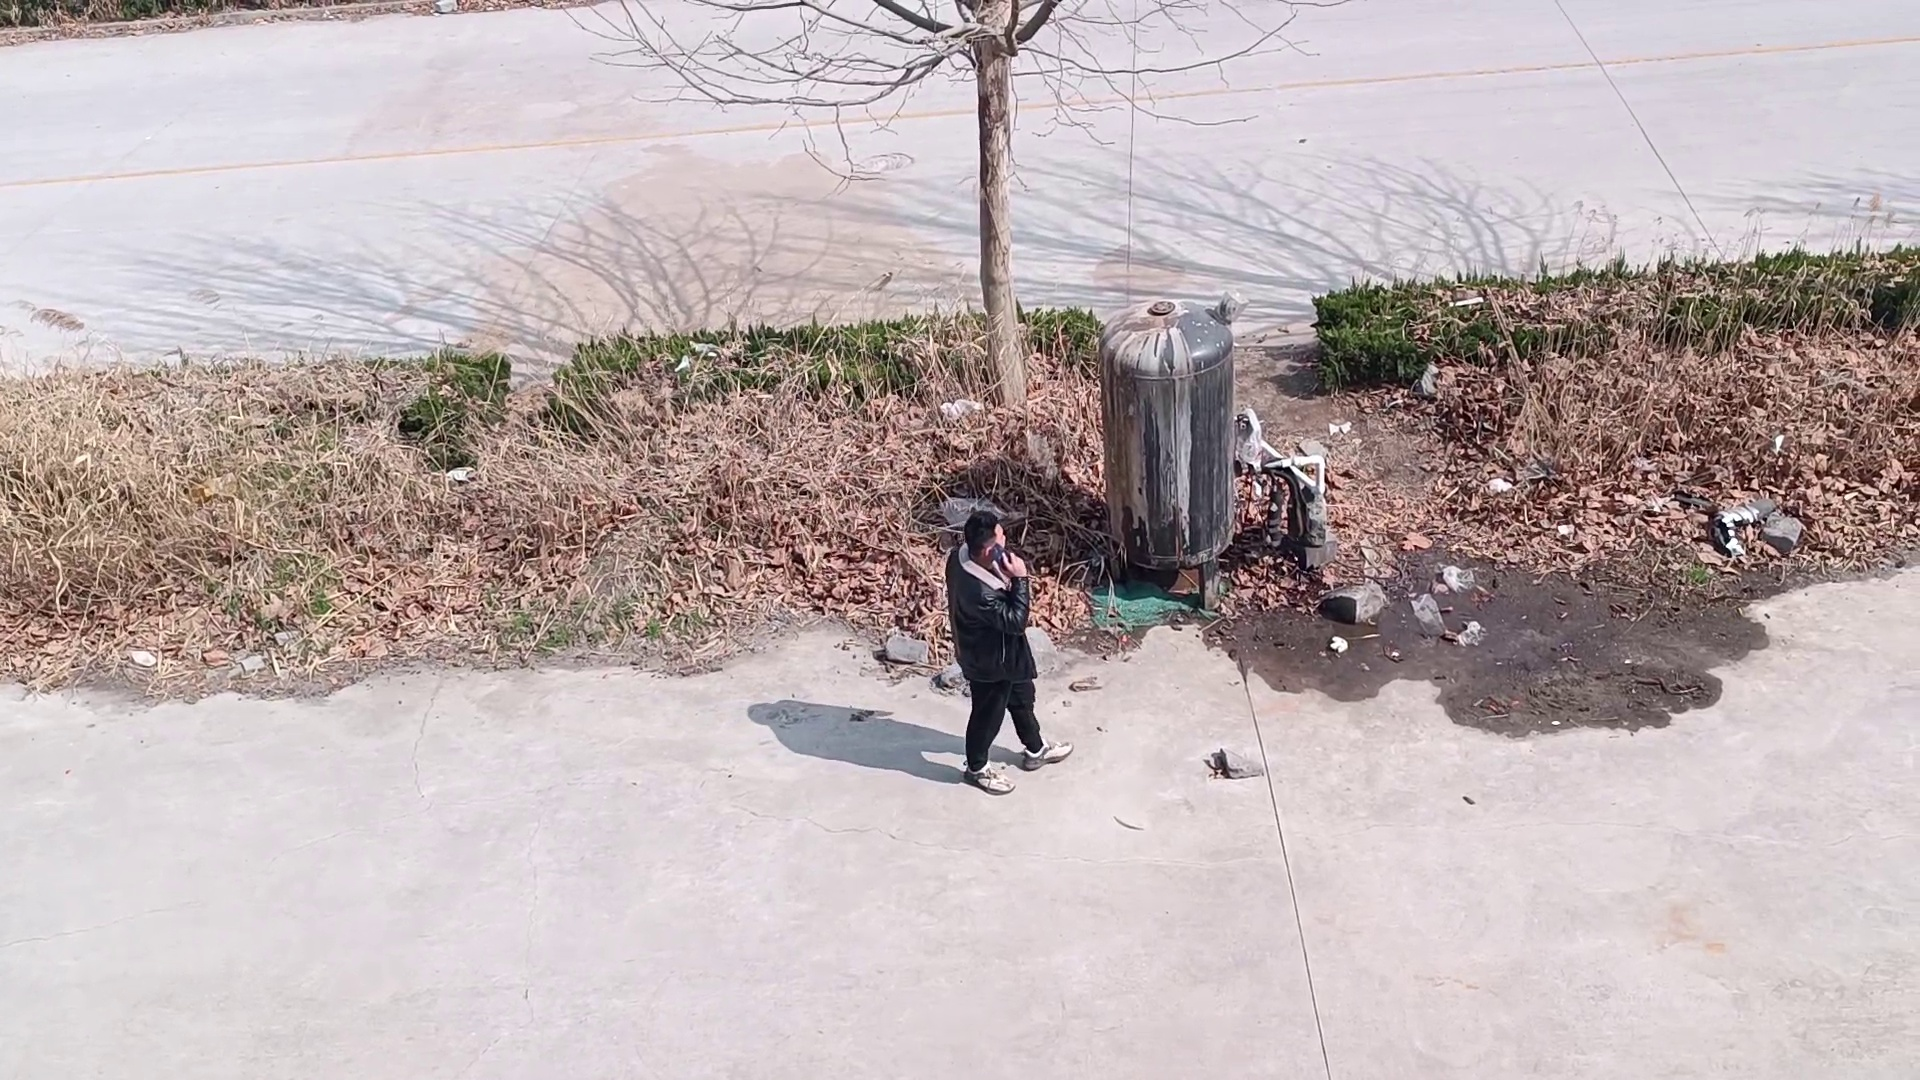phone: (953, 512, 1030, 587)
